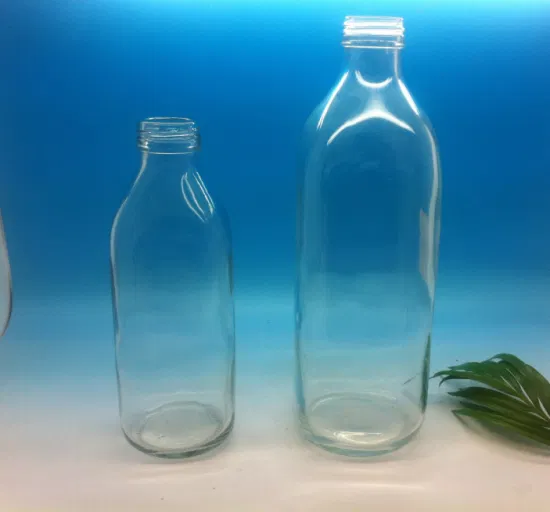glass_bottle: (283, 8, 456, 466), (95, 108, 251, 461)
